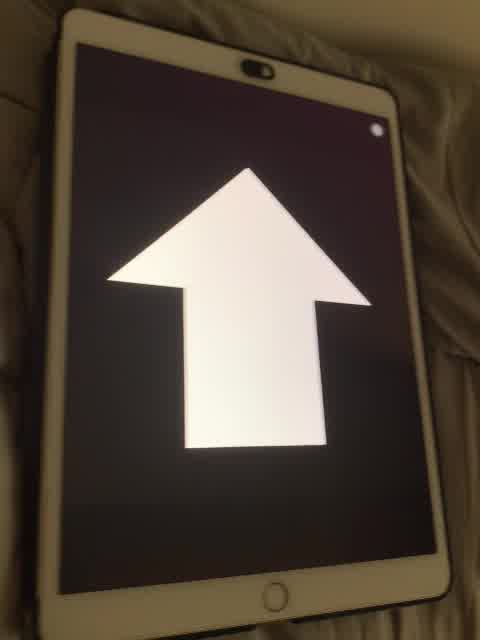up: (102, 155, 372, 455)
